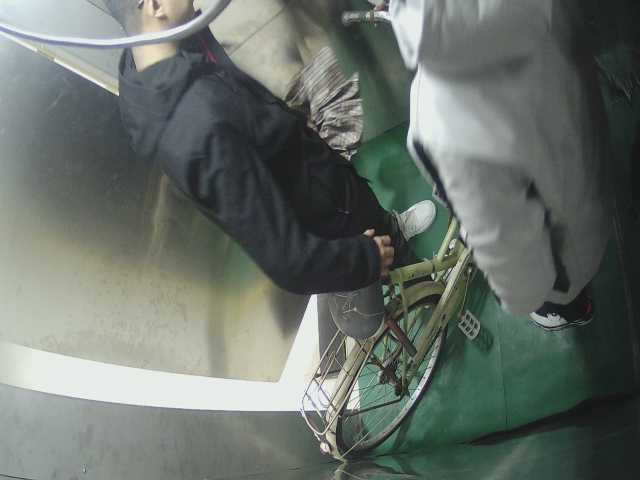bicycle: (294, 188, 488, 468)
person: (104, 1, 424, 295), (375, 5, 614, 330)
